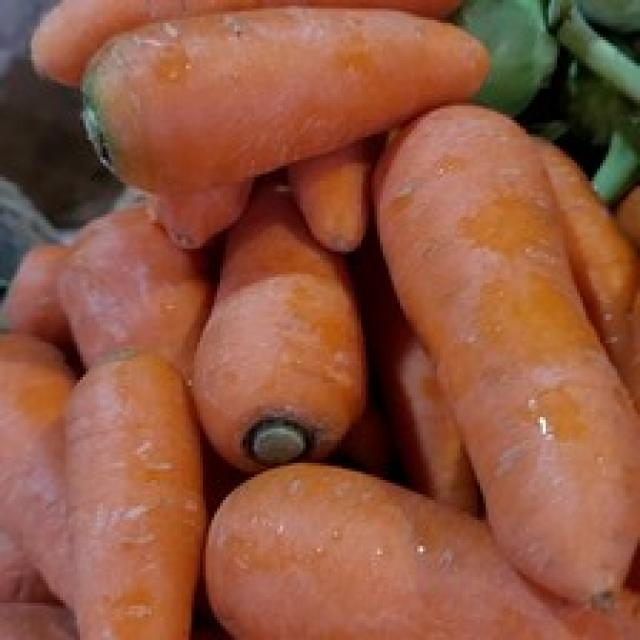Fresh_Carrot: (385, 113, 640, 604), (202, 458, 640, 640), (92, 0, 485, 182), (196, 167, 364, 462), (504, 104, 640, 416), (67, 340, 198, 640), (66, 219, 219, 404), (375, 279, 492, 515), (0, 331, 86, 632)
